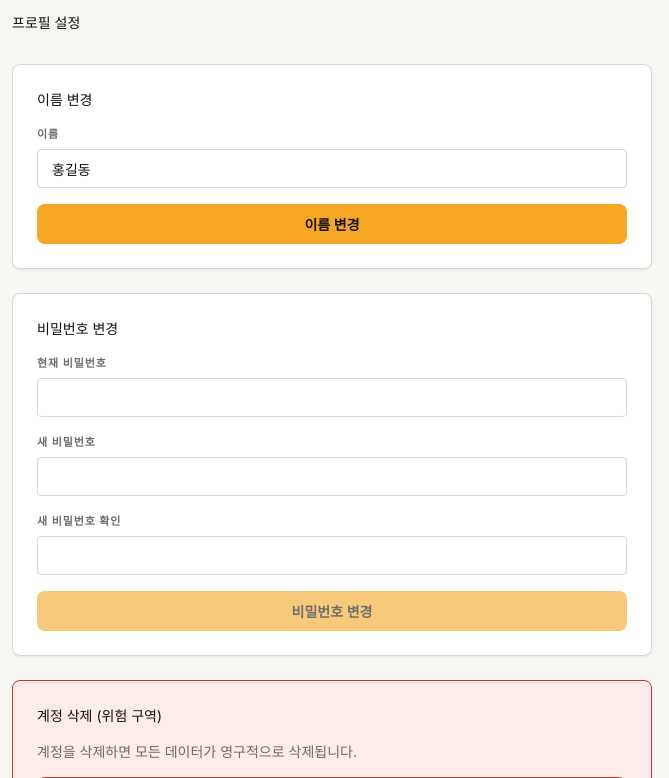
Test: ProfilePage › 이름 변경 섹션 › 이름 변경 실패 시 에러 메시지를 표시한다
Replace the text in the field showing "홍길동" with "새이름" at point(332, 168), box [37,149,627,188]
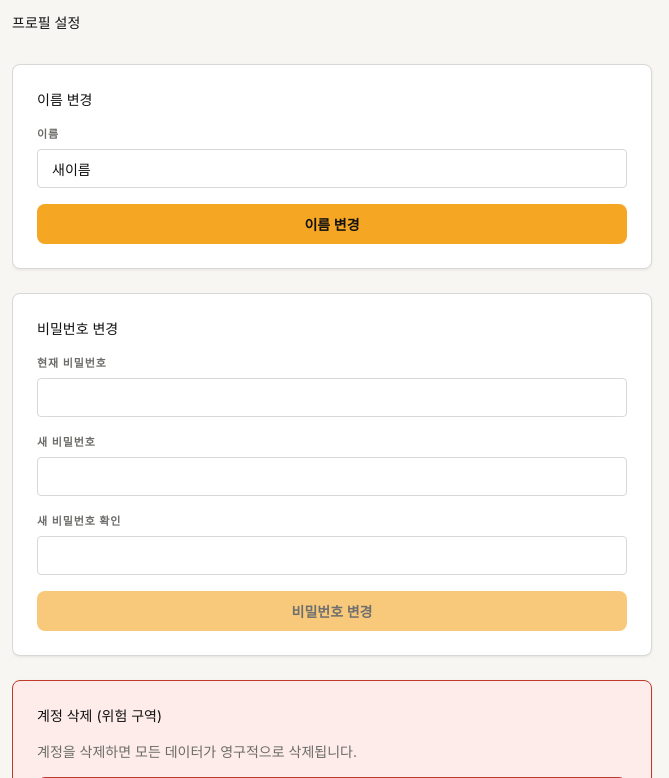
Click the button "이름 변경" at point(332, 224), box [37,204,627,244]
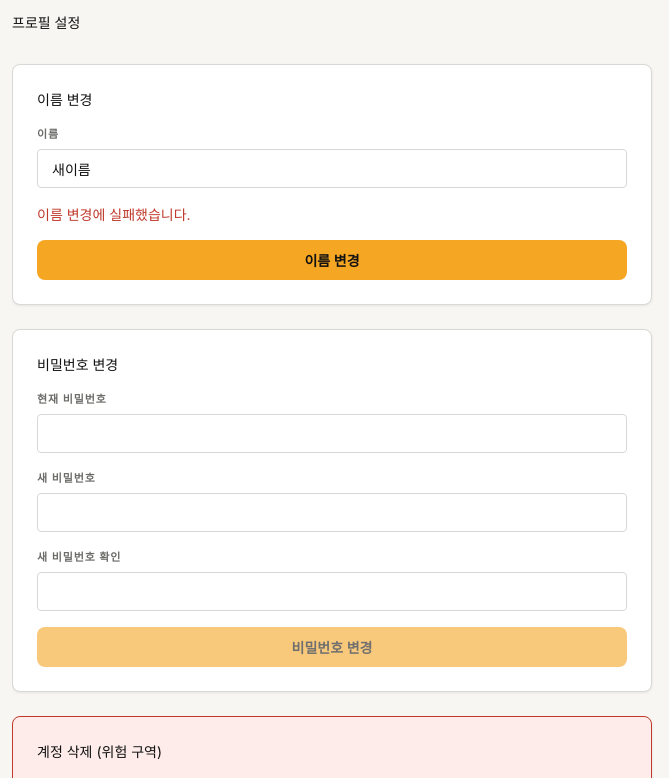
Now the text "이름 변경에 실패했습니다." is shown, box [37,206,191,223]
